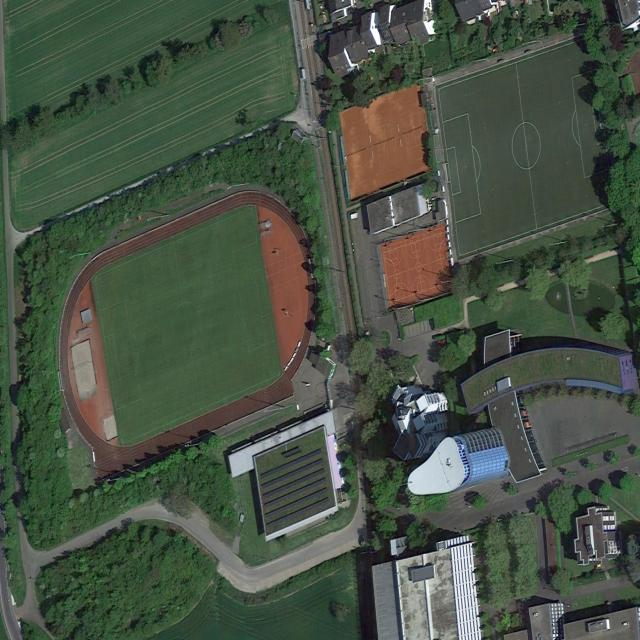small-vehicle: (350, 212, 358, 221)
